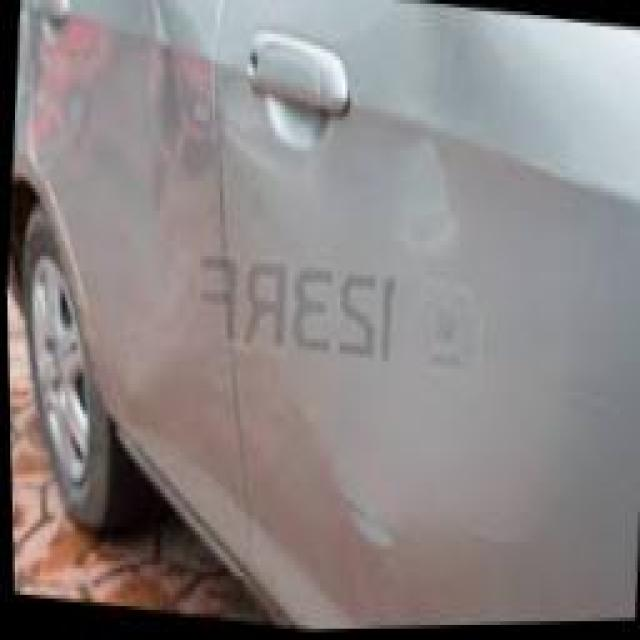Door: (228, 83, 635, 613), (73, 0, 247, 328)
